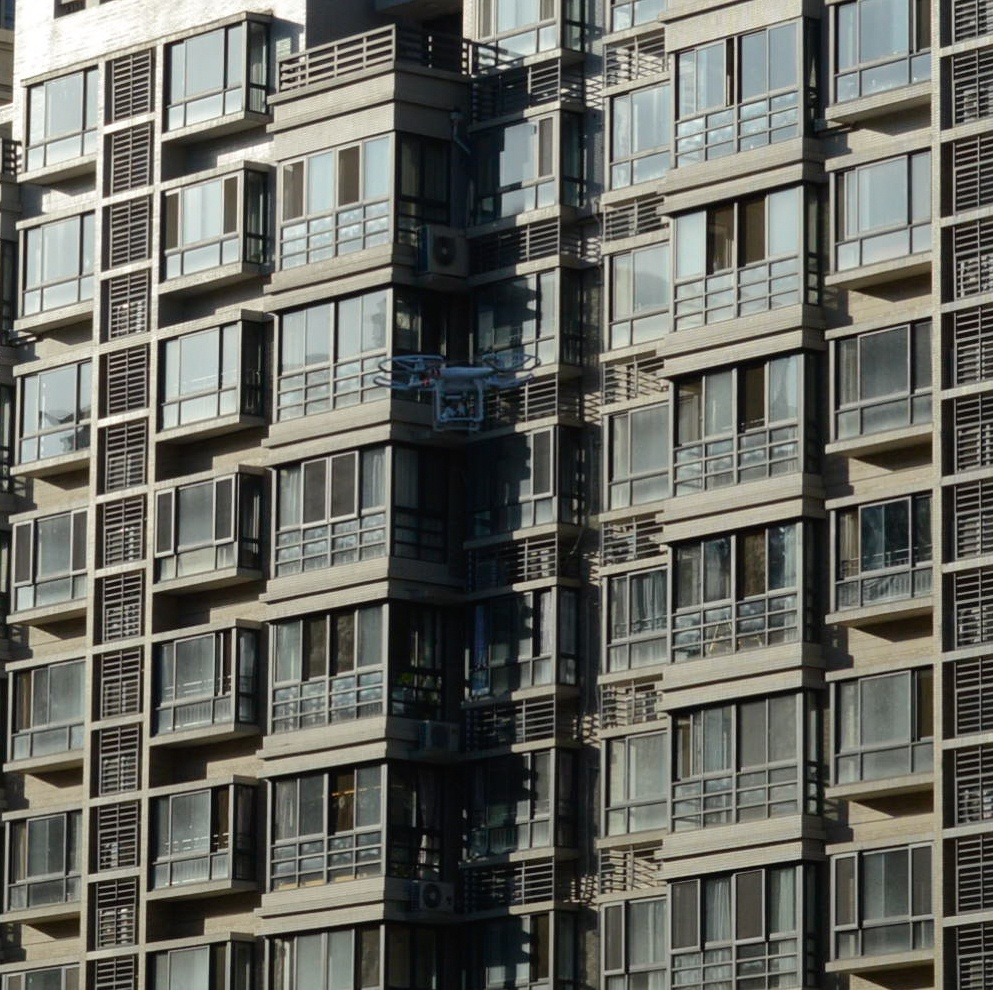DJI: (371, 349, 542, 428)
